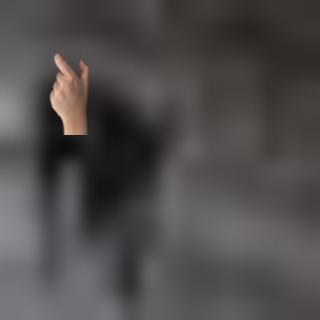Irritated: (45, 47, 97, 136)
